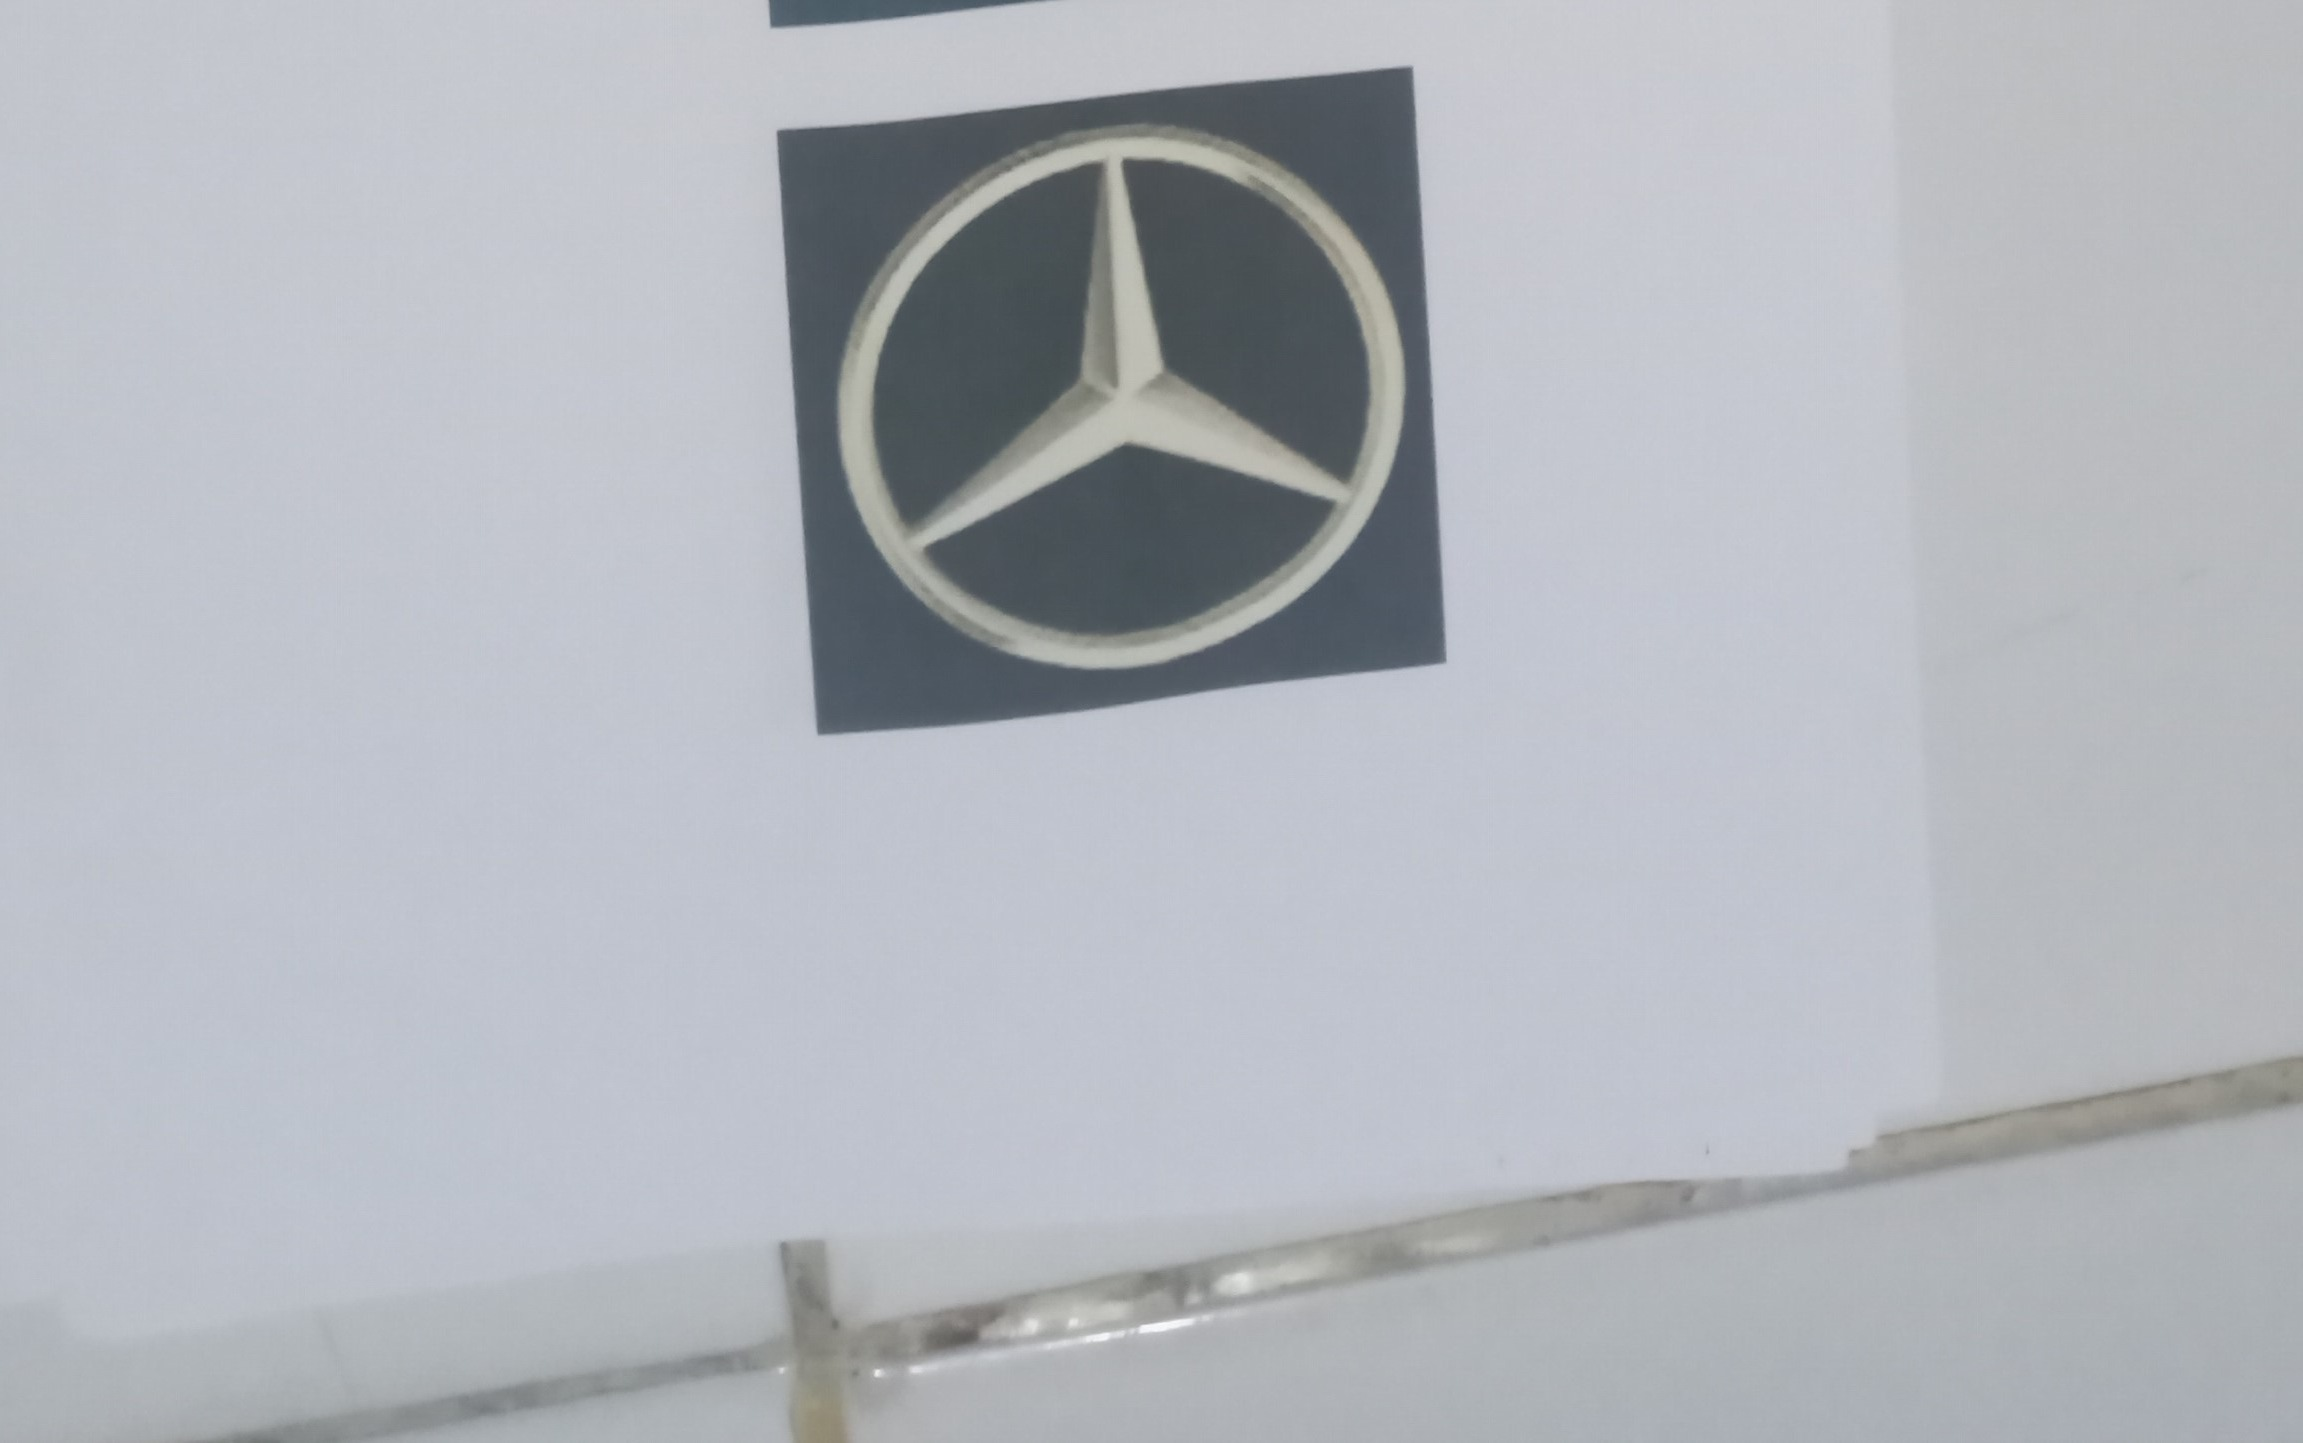Mercedes: (798, 116, 1431, 687)
